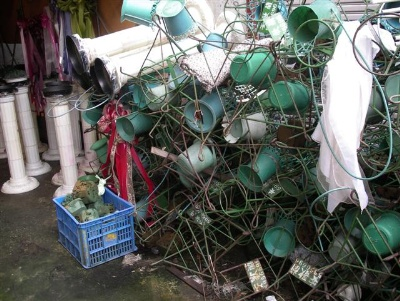bucket: (286, 1, 341, 42), (363, 211, 400, 255), (185, 91, 222, 134), (230, 46, 271, 84), (238, 153, 278, 190), (263, 218, 295, 259), (156, 1, 193, 36), (269, 81, 309, 112), (177, 141, 213, 175), (330, 186, 366, 220), (113, 110, 150, 142), (177, 143, 213, 174), (120, 1, 155, 26)
plastic_bag: (324, 28, 368, 202)
